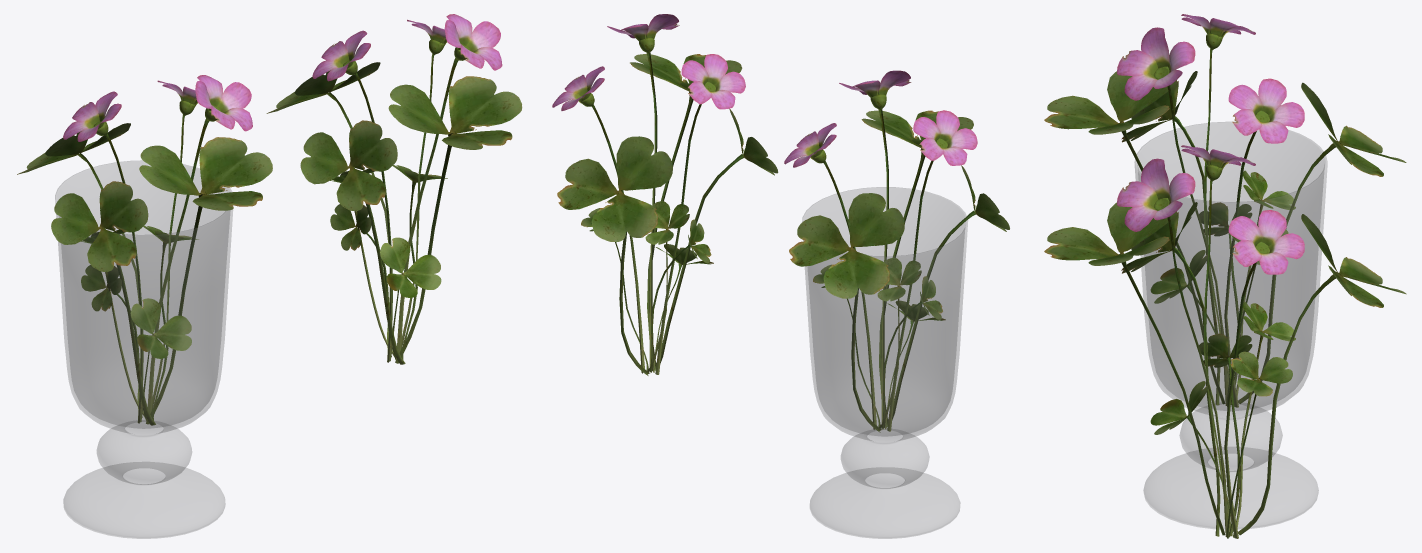
Rendered from vase_blumen.gltf.
3 renders of one model, left to right at view 1: azimuth 30°, elevation 25°; view 2: azimuth 150°, elevation 25°; view 3: azimuth 270°, elevation 25°, orthographic. The views are drawn at different scales.
Visible parts, largest first — view 1: GlassAlpha, Flowers1, Flowers2; view 2: GlassAlpha, Flowers2, Flowers1; view 3: GlassAlpha, Flowers2, Flowers1.
Part boxes in pixels (x1=…): GlassAlpha: x1=55, y1=160, x2=232, y2=538; Flowers1: x1=17, y1=75, x2=272, y2=425; Flowers2: x1=266, y1=14, x2=522, y2=364; GlassAlpha: x1=802, y1=187, x2=967, y2=538; Flowers2: x1=552, y1=14, x2=778, y2=375; Flowers1: x1=784, y1=70, x2=1009, y2=432; GlassAlpha: x1=1134, y1=122, x2=1327, y2=529; Flowers2: x1=1044, y1=145, x2=1406, y2=538; Flowers1: x1=1044, y1=14, x2=1406, y2=407.
Size of the model in its own units: 0.2173 by 0.2032 by 0.1425.
Materials: 2 (1 with a texture image).
